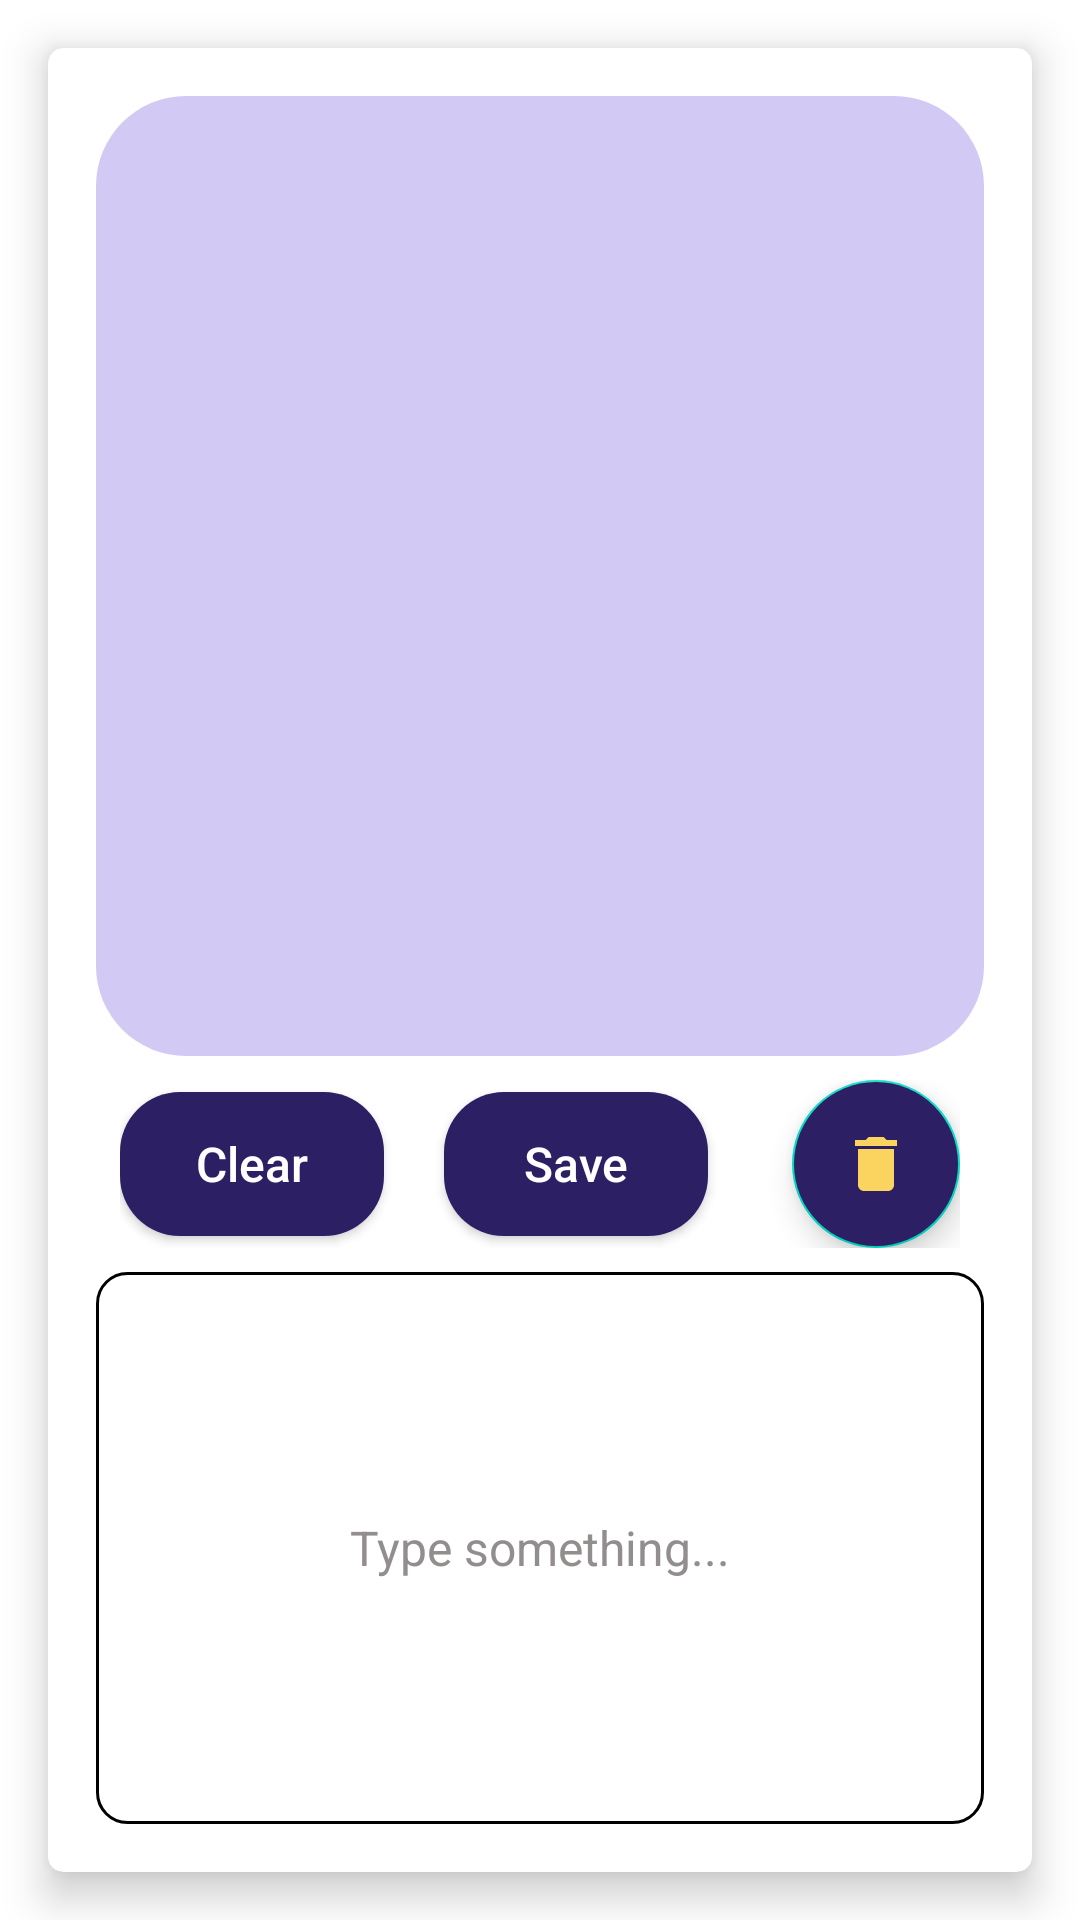

Icons on this 1080*1920 Android screen, each with the point to tap as [x,y]:
delete: [876,1164]
